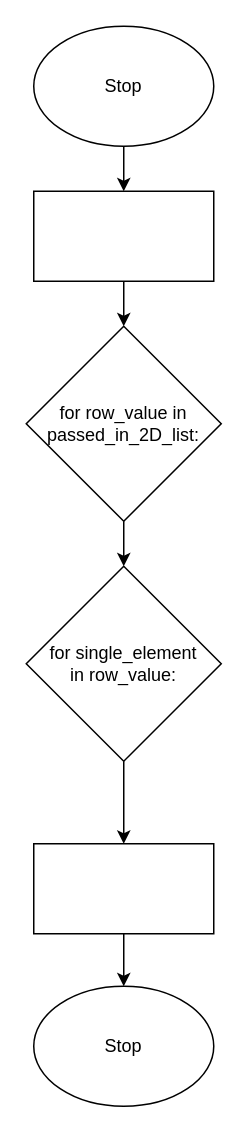
This 248x1133 diagram has some shape labels left out. The shapes that lost their labels are listed below. From the top down, each one's centre as x and y in pixels, then its label:
point 123,235: average = 0
point 123,888: average += single element
